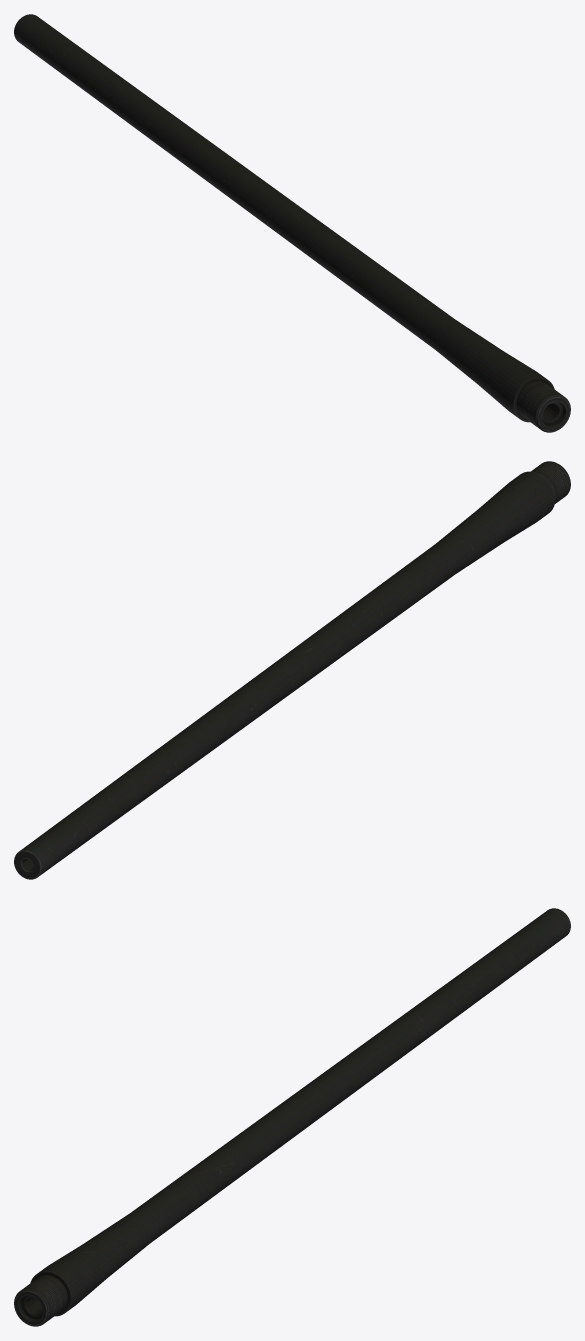
The picture shows the model from 3 angles, top to bottom: view 1: azimuth 30°, elevation 25°; view 2: azimuth 150°, elevation 25°; view 3: azimuth 330°, elevation 25°; orthographic projection.
Parts seen in each view (by area): view 1: TW_5bfebc250db834001a6694e1_PZ_Import; view 2: TW_5bfebc250db834001a6694e1_PZ_Import; view 3: TW_5bfebc250db834001a6694e1_PZ_Import.
Part boxes in pixels (bbox=[...]): TW_5bfebc250db834001a6694e1_PZ_Import: bbox=[14, 14, 570, 432]; TW_5bfebc250db834001a6694e1_PZ_Import: bbox=[14, 461, 570, 879]; TW_5bfebc250db834001a6694e1_PZ_Import: bbox=[14, 908, 570, 1326].
Bounding box in the file's own units: 0.0175 × 0.3815 × 0.0175.
1 material, 1 textured.
